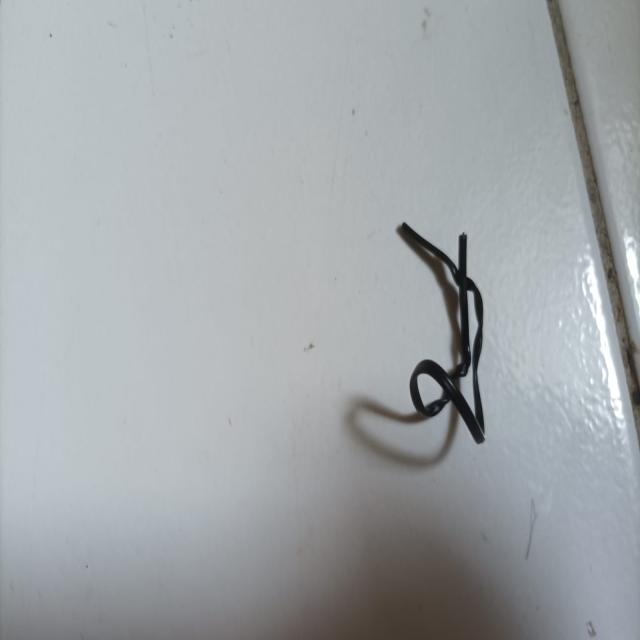Anorganik: (386, 186, 508, 468)
